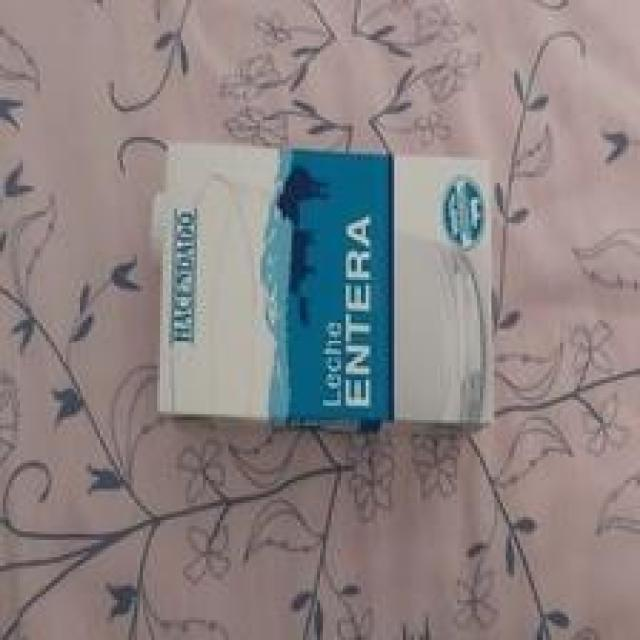PaperCardboard: (141, 135, 502, 433)
